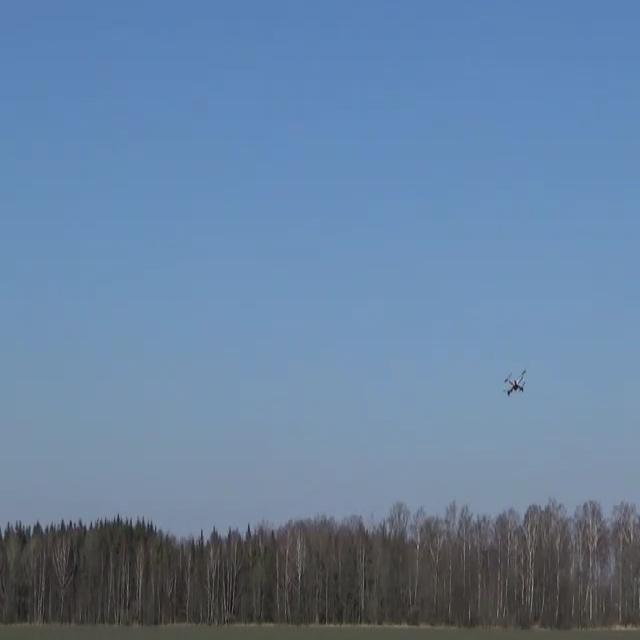Drone: (499, 366, 537, 407)
